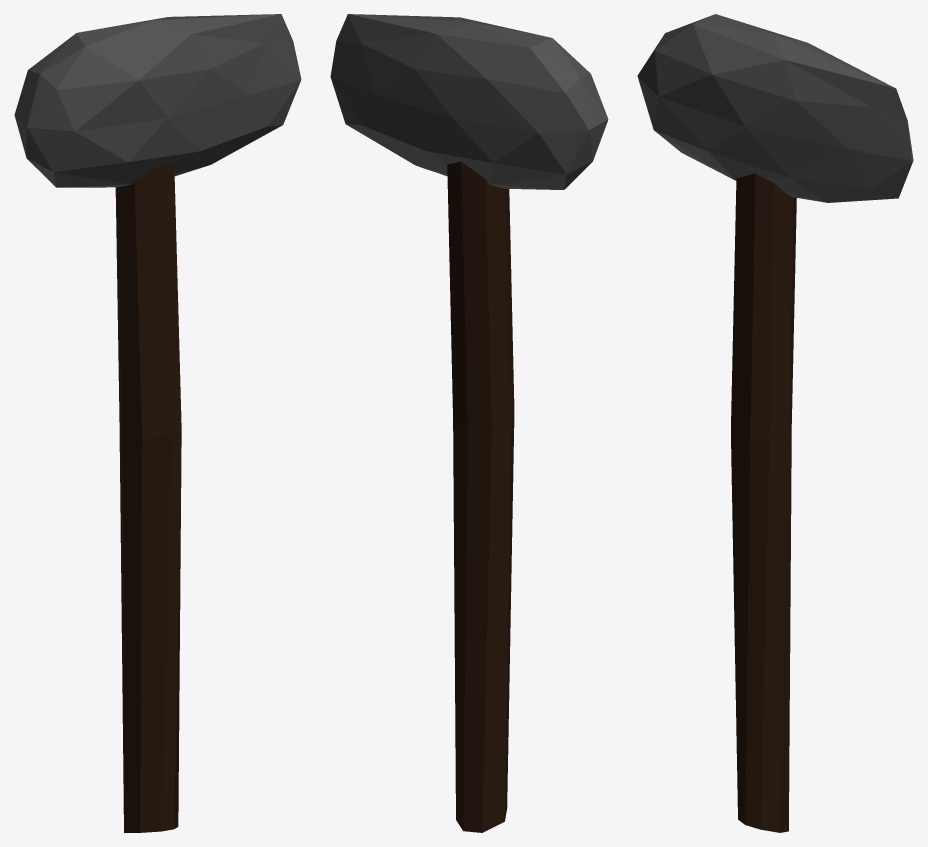
Rendered from stoneAxe.fbx.
3 renders of one model, left to right at view 1: azimuth 30°, elevation 25°; view 2: azimuth 150°, elevation 25°; view 3: azimuth 330°, elevation 25°, orthographic.
Visible parts, largest first — view 1: Cylinder; view 2: Cylinder; view 3: Cylinder.
Boxes of the visible parts, bbox=[...] form: Cylinder: bbox=[14, 14, 301, 832]; Cylinder: bbox=[330, 14, 608, 832]; Cylinder: bbox=[637, 14, 913, 832].
Size of the model in its own units: 8.1 by 22.68 by 2.37.
